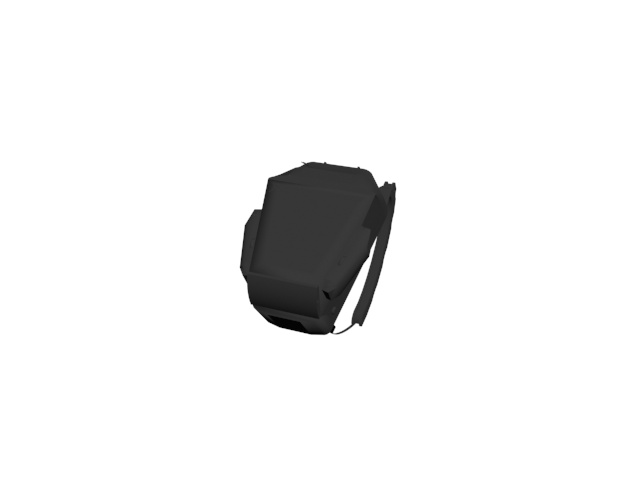back_pack: (233, 161, 400, 336)
